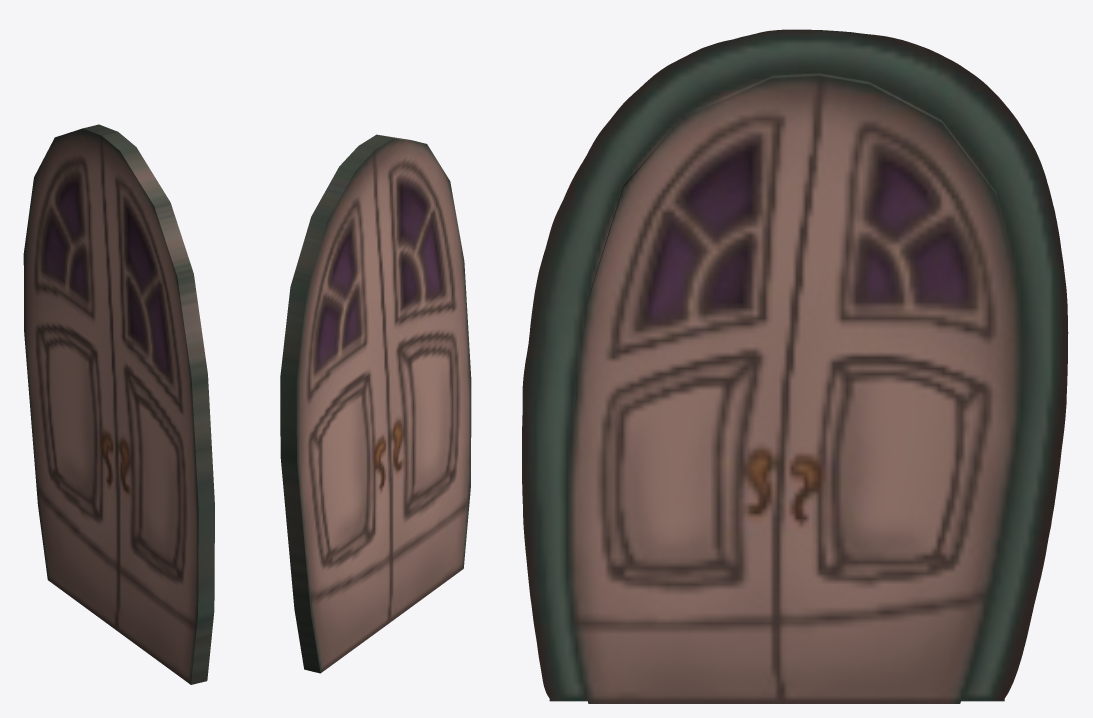
Rendered from house_door.glb.
The picture shows the model from 3 angles, left to right: view 1: azimuth 30°, elevation 25°; view 2: azimuth 150°, elevation 25°; view 3: azimuth 270°, elevation 25°; orthographic projection. The views are drawn at different scales.
Visible parts, largest first — view 1: leftDoor, rightDoor; view 2: rightDoor, leftDoor; view 3: rightDoor, leftDoor, door_flat.
Boxes of the visible parts, <box> form: leftDoor: <box>102,132,214,684</box>; rightDoor: <box>23,124,118,629</box>; rightDoor: <box>280,146,391,673</box>; leftDoor: <box>359,134,471,623</box>; rightDoor: <box>776,73,1022,703</box>; leftDoor: <box>568,73,819,703</box>; door_flat: <box>522,29,1068,701</box>.
Bounding box in the file's own units: 0.2326 × 7.2 × 5.4.
2 materials, 1 textured.
